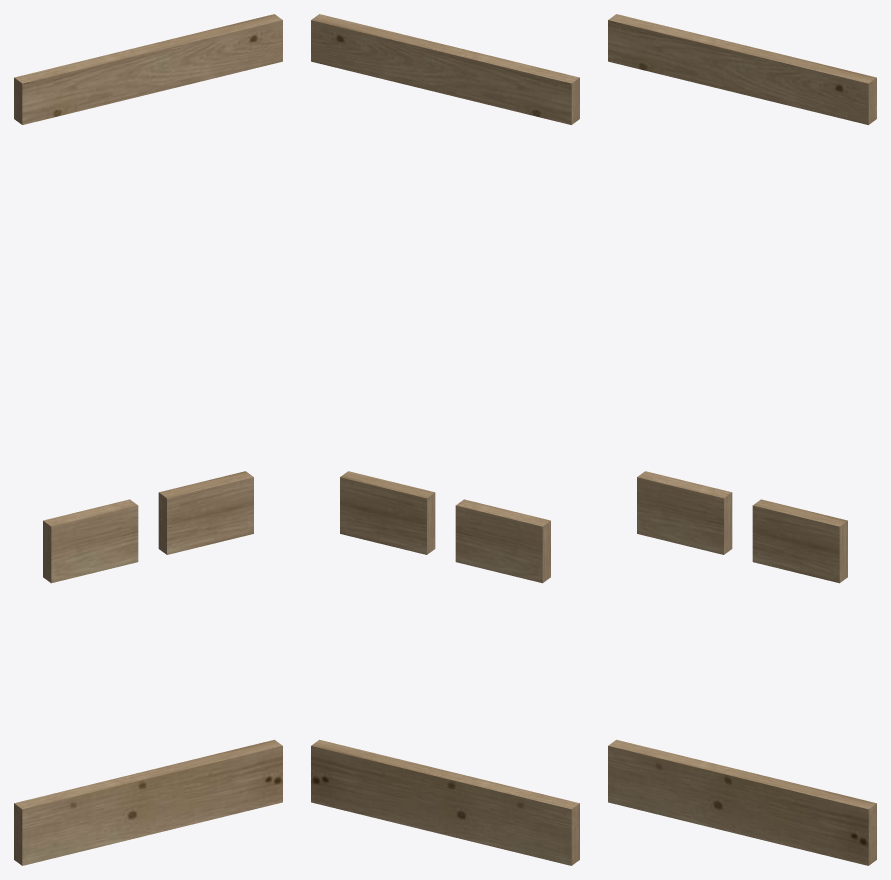
Rendered from Joglo_part_1.fbx.
3 renders of one model, left to right at view 1: azimuth 30°, elevation 25°; view 2: azimuth 150°, elevation 25°; view 3: azimuth 330°, elevation 25°, orthographic.
Visible parts, largest first — view 1: Mesh101_Wood___Pine_Grained_Horizontal_0.001; view 2: Mesh101_Wood___Pine_Grained_Horizontal_0.001; view 3: Mesh101_Wood___Pine_Grained_Horizontal_0.001.
Part boxes in pixels (x1,y1,x2,y2): Mesh101_Wood___Pine_Grained_Horizontal_0.001: (14, 14, 282, 865); Mesh101_Wood___Pine_Grained_Horizontal_0.001: (311, 14, 579, 865); Mesh101_Wood___Pine_Grained_Horizontal_0.001: (608, 14, 876, 865).
Bounding box in the file's own units: 28.42 × 81.57 × 1.57.
